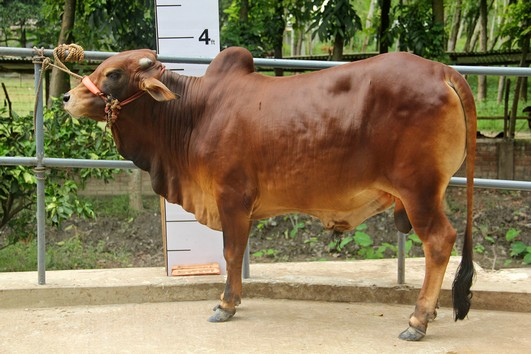cow: (53, 39, 478, 345)
